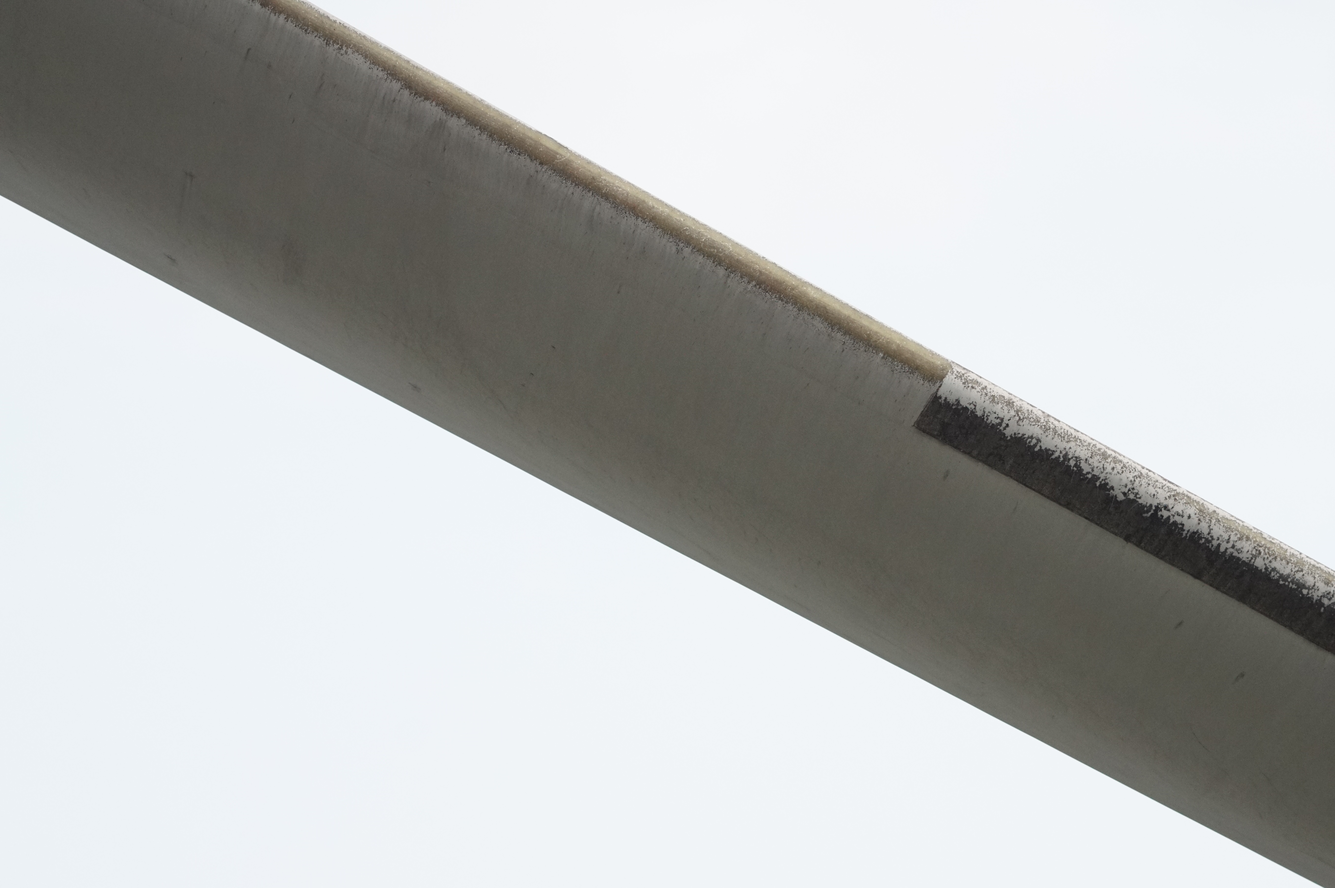Damage: (257, 0, 1334, 605)
